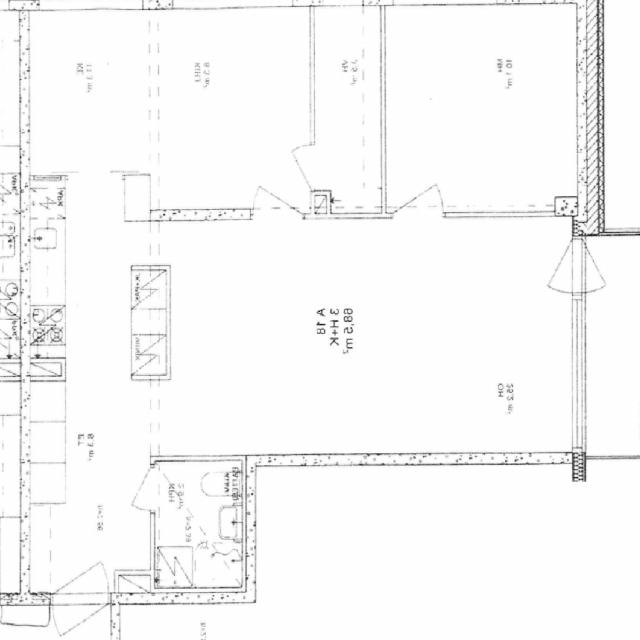door: (53, 530, 109, 606), (525, 239, 586, 293), (573, 239, 633, 293), (252, 152, 302, 215), (396, 155, 444, 215), (113, 468, 156, 510), (273, 144, 315, 186)
